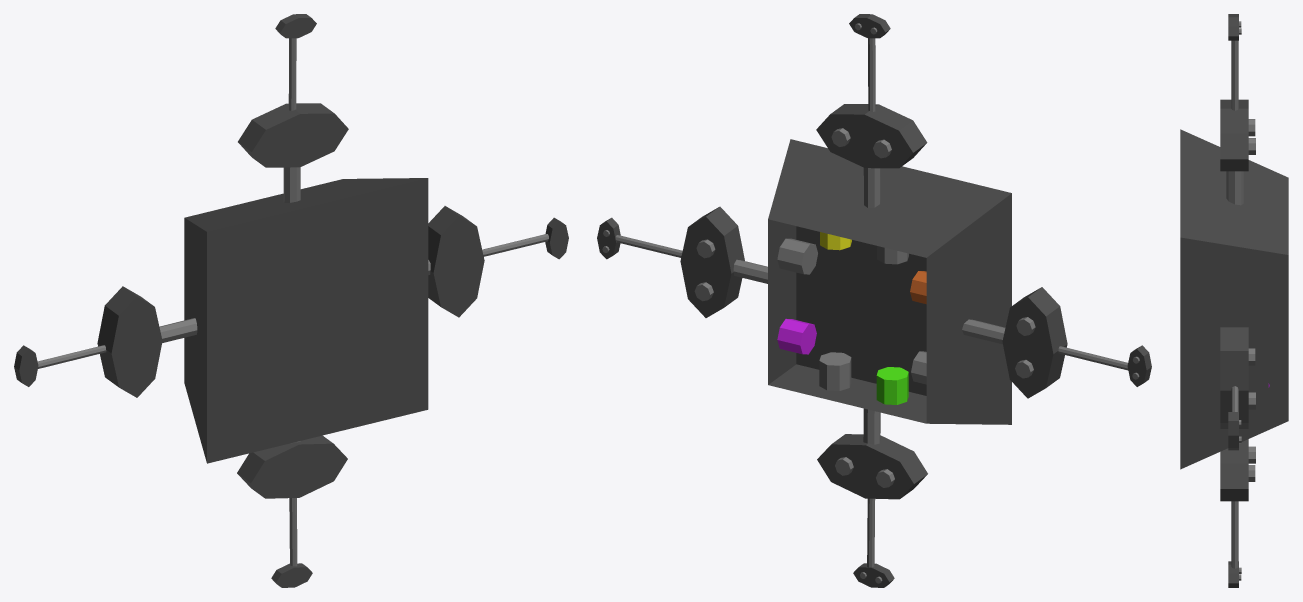
Rendered from ElectricalBox.fbx.
3 renders of one model, left to right at view 1: azimuth 30°, elevation 25°; view 2: azimuth 150°, elevation 25°; view 3: azimuth 270°, elevation 25°, orthographic.
Parts seen in each view (by area): view 1: WireBox, LeftThickStand.002, LeftThickStand.001, LeftThickStand, LeftThickStand.003, LeftThinStandDown.002, LeftThinStandDown.001, LeftThinStandDown.003, LeftThinStandDown; view 2: WireBox, LeftThickStand.002, LeftThickStand.001, LeftThickStand, LeftThickStand.003, 4, 2, Green, Purple, LeftThickHandle.002, LeftThinStandDown.002; view 3: WireBox, LeftThickStand, LeftThickStand.001, LeftThickStand.003, LeftThickHandle.001, LeftThinHandle.001, LeftThinHandle.003, LeftThinStandDown, LeftThinStandDown.001, LeftThinStandDown.003, LeftThinHandle.
Boxes of the visible parts, x1,y1,x2,y2 form: WireBox: [184, 178, 428, 463]; LeftThickStand.002: [97, 286, 162, 397]; LeftThickStand.001: [238, 103, 348, 167]; LeftThickStand: [428, 206, 484, 317]; LeftThickStand.003: [237, 435, 347, 498]; LeftThinStandDown.002: [14, 345, 38, 386]; LeftThinStandDown.001: [275, 14, 316, 38]; LeftThinStandDown.003: [271, 563, 312, 587]; LeftThinStandDown: [545, 217, 568, 259]; WireBox: [768, 139, 1011, 424]; LeftThickStand.002: [1002, 287, 1067, 398]; LeftThickStand.001: [816, 104, 927, 168]; LeftThickStand: [680, 206, 744, 317]; LeftThickStand.003: [817, 434, 927, 499]; 4: [819, 352, 851, 390]; 2: [777, 238, 817, 274]; Green: [876, 367, 908, 404]; Purple: [777, 318, 816, 354]; LeftThickHandle.002: [962, 319, 1005, 344]; LeftThinStandDown.002: [1127, 345, 1151, 386]; WireBox: [1180, 129, 1288, 469]; LeftThickStand: [1220, 327, 1248, 428]; LeftThickStand.001: [1220, 99, 1248, 171]; LeftThickStand.003: [1220, 439, 1248, 501]; LeftThickHandle.001: [1226, 171, 1243, 205]; LeftThinHandle.001: [1231, 40, 1238, 110]; LeftThinHandle.003: [1231, 501, 1238, 568]; LeftThinStandDown: [1228, 412, 1238, 450]; LeftThinStandDown.001: [1228, 14, 1238, 40]; LeftThinStandDown.003: [1228, 561, 1238, 587]; LeftThinHandle: [1231, 386, 1238, 411].
Size of the model in its own units: 1176 by 1163 by 200.
